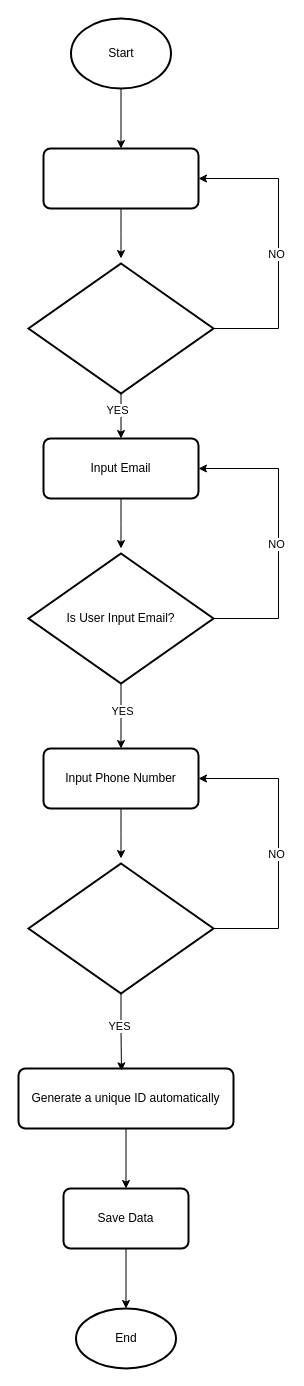
The diagram is 304 pixels wide and 1386 high, and some of its shapes have lost their labels. Here are the shapes that lost their labels. From the top down, the centre of each, then its label:
At point (120, 178): "Input Name".
At point (120, 328): "Is User Input Name?".
At point (120, 928): "Is User Input Phone Number?".
